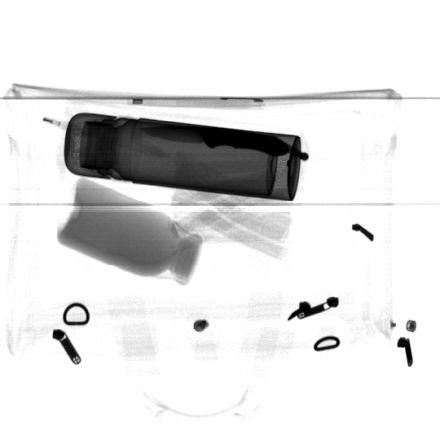Knife: (136, 124, 291, 158)
